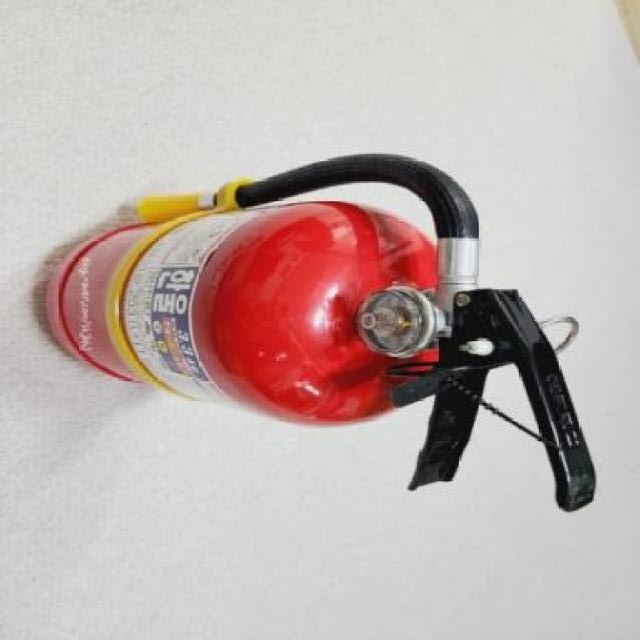fire extinguisher: (45, 154, 598, 512)
